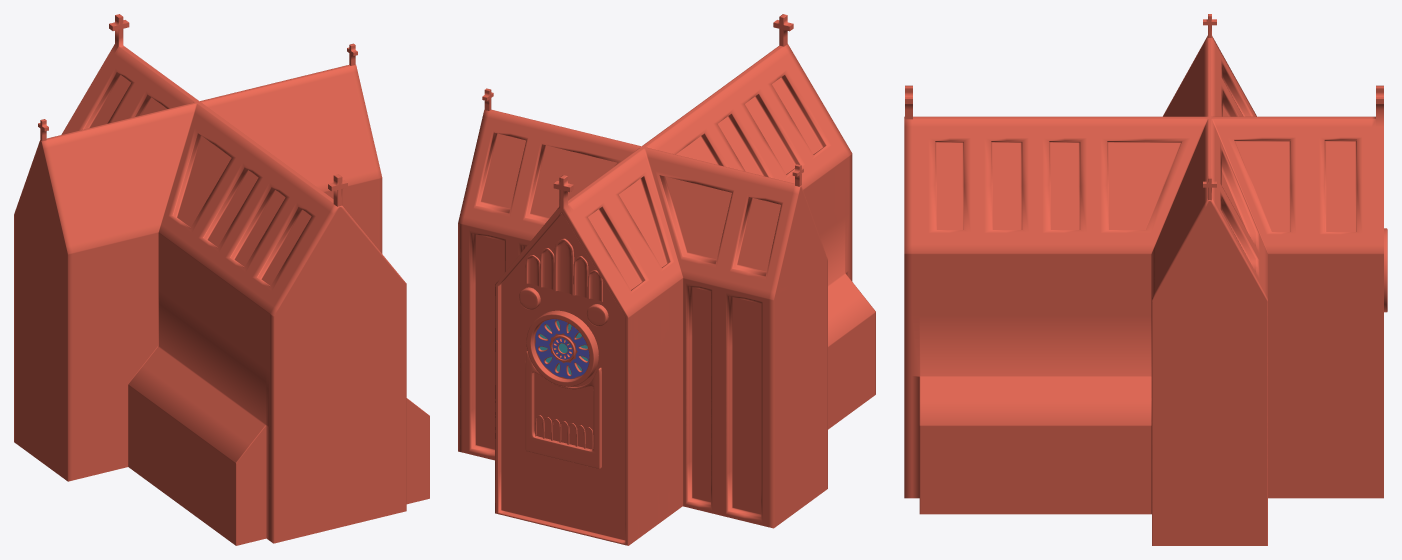
Rendered from Church_NoText.fbx.
3 renders of one model, left to right at view 1: azimuth 30°, elevation 25°; view 2: azimuth 150°, elevation 25°; view 3: azimuth 270°, elevation 25°, orthographic. The views are drawn at different scales.
Visible parts, largest first — view 1: Church; view 2: Church; view 3: Church.
Boxes of the visible parts, <box> form: Church: <box>14,14,429,545</box>; Church: <box>458,14,875,545</box>; Church: <box>904,14,1387,545</box>.
Bounding box in the file's own units: 289 × 307 × 357.
